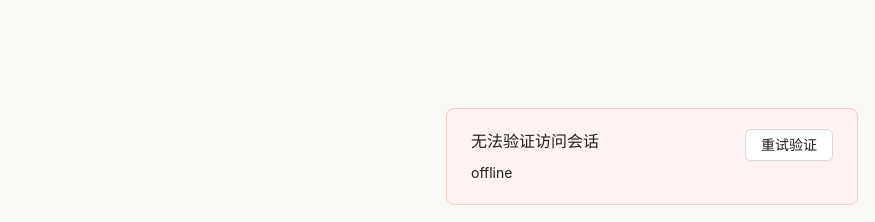
Test: session verification fails closed and can be retried
Expected: the text "无法验证访问会话" is shown, [471,131,599,151]
Expected: the text "研究工作空间" is not shown
Click the button "重试验证" at (789,145), box [745,129,833,161]
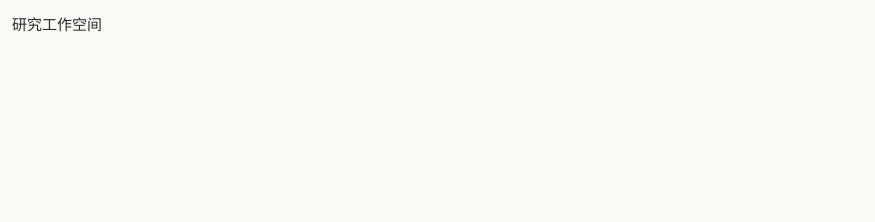
Now the text "研究工作空间" is shown, box [12,14,102,34]
